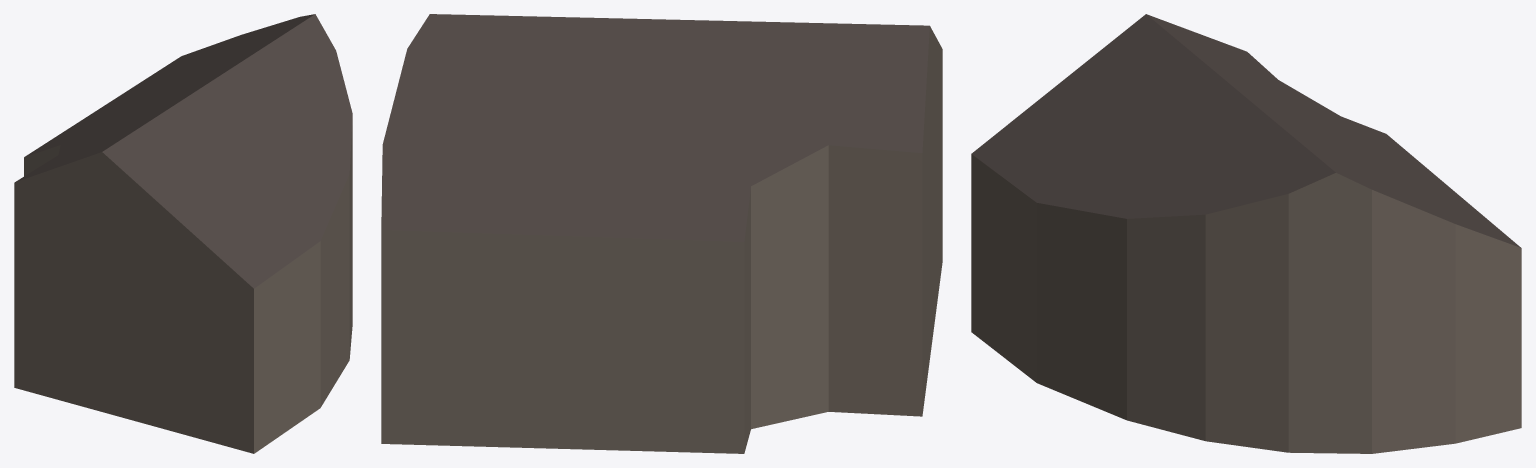
3 views of the same model, side by side, from view 1: azimuth 30°, elevation 25°; view 2: azimuth 150°, elevation 25°; view 3: azimuth 270°, elevation 25° (orthographic). The views are drawn at different scales.
Parts seen in each view (by area): view 1: HP-w1196726540; view 2: HP-w1196726540; view 3: HP-w1196726540.
Part boxes in pixels (left/top/right/bottom): HP-w1196726540: left=14, top=14, right=352, bottom=453; HP-w1196726540: left=381, top=14, right=942, bottom=453; HP-w1196726540: left=971, top=14, right=1521, bottom=453.
Size of the model in its own units: 13.05 by 9.45 by 16.79.
